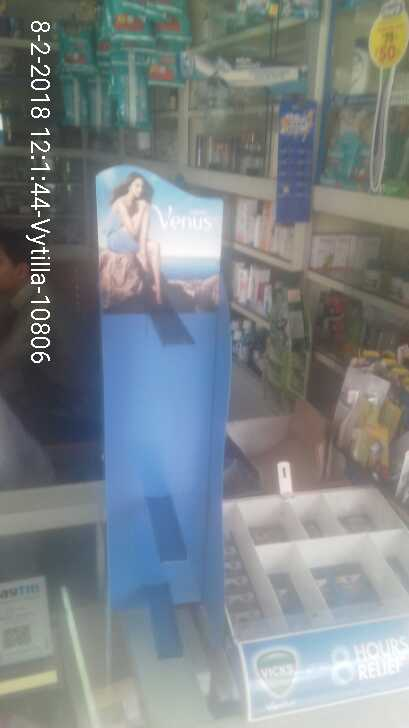reject: (136, 191, 238, 303)
